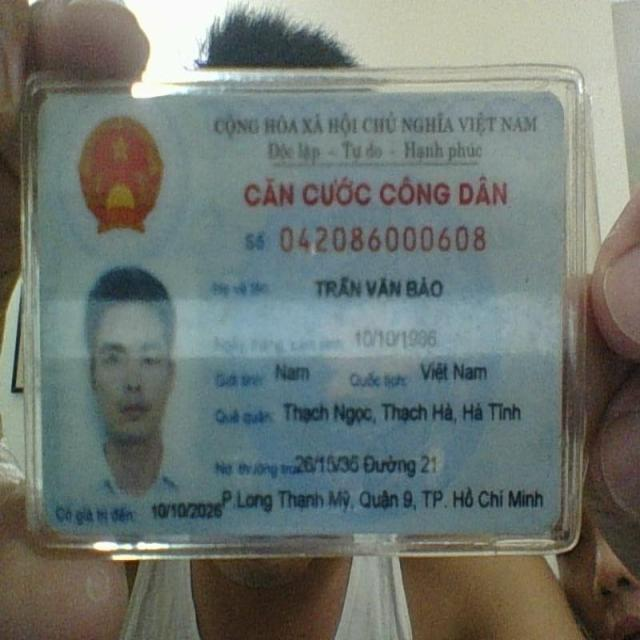current_place: (216, 482, 547, 516), (290, 453, 442, 479)
dob: (349, 325, 442, 351)
expire_date: (150, 500, 223, 523)
gender: (273, 360, 312, 388)
id: (275, 217, 487, 261)
name: (312, 269, 446, 303)
nationality: (416, 353, 493, 390)
origin_place: (280, 394, 529, 427)
